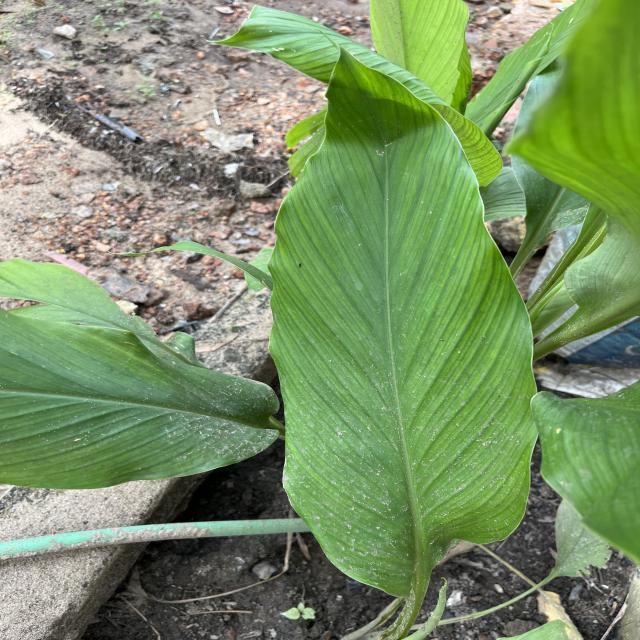Curcuma longa: (258, 29, 552, 614)
